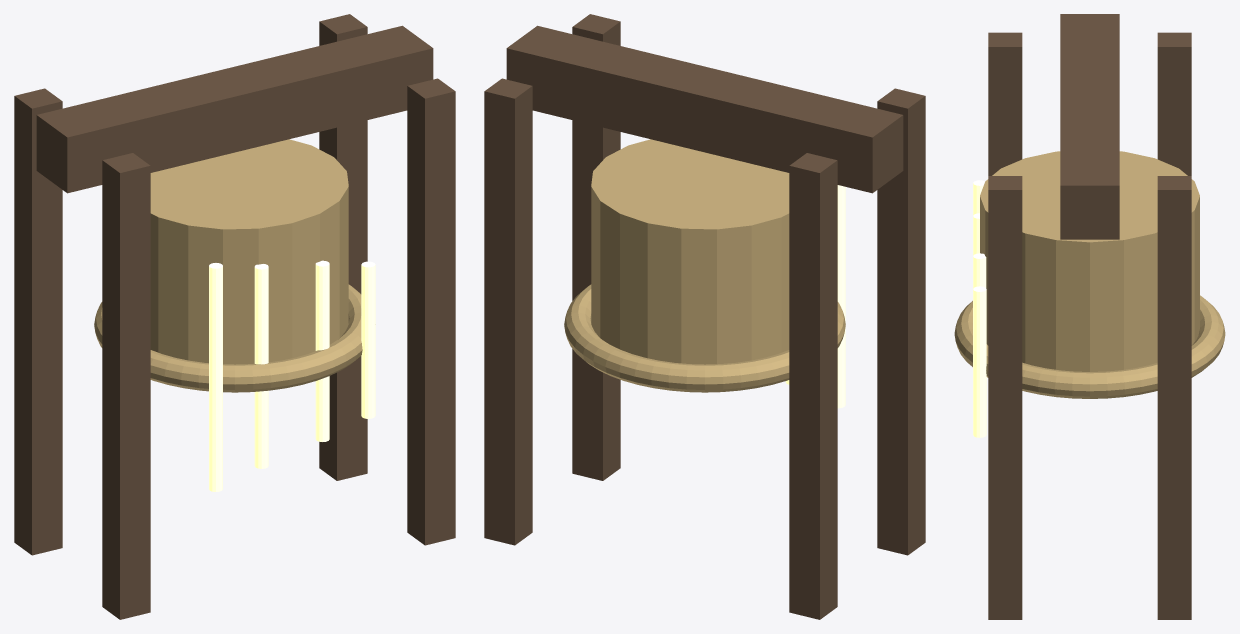
File: aeolian_belfry.glb
The picture shows the model from 3 angles, left to right: view 1: azimuth 30°, elevation 25°; view 2: azimuth 150°, elevation 25°; view 3: azimuth 270°, elevation 25°; orthographic projection. The views are drawn at different scales.
Parts seen in each view (by area): view 1: AeolianCathedralBell, Cube.004, Cube, Cube.002, Cube.001, Cube.003, Torus, AeolianChimePipe_0, AeolianChimePipe_1, AeolianChimePipe_3, AeolianChimePipe_2; view 2: AeolianCathedralBell, Cube.004, Cube.001, Cube.003, Cube, Cube.002, Torus, AeolianChimePipe_0; view 3: AeolianCathedralBell, Cube.002, Cube.003, Cube.004, Torus, Cube, Cube.001, AeolianChimePipe_3, AeolianChimePipe_2.
Boxes of the visible parts, bbox=[...] form: AeolianCathedralBell: bbox=[150, 139, 348, 364]; Cube.004: bbox=[36, 25, 433, 193]; Cube: bbox=[102, 153, 150, 619]; Cube.002: bbox=[407, 78, 455, 545]; Cube.001: bbox=[14, 88, 62, 555]; Cube.003: bbox=[319, 14, 367, 480]; Torus: bbox=[94, 284, 362, 392]; AeolianChimePipe_0: bbox=[209, 263, 222, 491]; AeolianChimePipe_1: bbox=[254, 264, 268, 468]; AeolianChimePipe_3: bbox=[361, 261, 375, 418]; AeolianChimePipe_2: bbox=[315, 260, 329, 441]; AeolianCathedralBell: bbox=[591, 139, 789, 364]; Cube.004: bbox=[506, 25, 903, 193]; Cube.001: bbox=[789, 153, 837, 619]; Cube.003: bbox=[484, 78, 532, 545]; Cube: bbox=[877, 88, 925, 555]; Cube.002: bbox=[572, 14, 620, 480]; Torus: bbox=[564, 284, 845, 392]; AeolianChimePipe_0: bbox=[837, 185, 845, 408]; AeolianCathedralBell: bbox=[980, 151, 1199, 371]; Cube.002: bbox=[988, 176, 1022, 619]; Cube.003: bbox=[1157, 176, 1191, 619]; Cube.004: bbox=[1060, 14, 1119, 239]; Torus: bbox=[954, 295, 1225, 398]; Cube: bbox=[988, 32, 1022, 175]; Cube.001: bbox=[1157, 32, 1191, 175]; AeolianChimePipe_3: bbox=[973, 286, 986, 437]; AeolianChimePipe_2: bbox=[973, 253, 986, 288].
Size of the model in its own units: 2.4 by 2.88 by 1.6.
